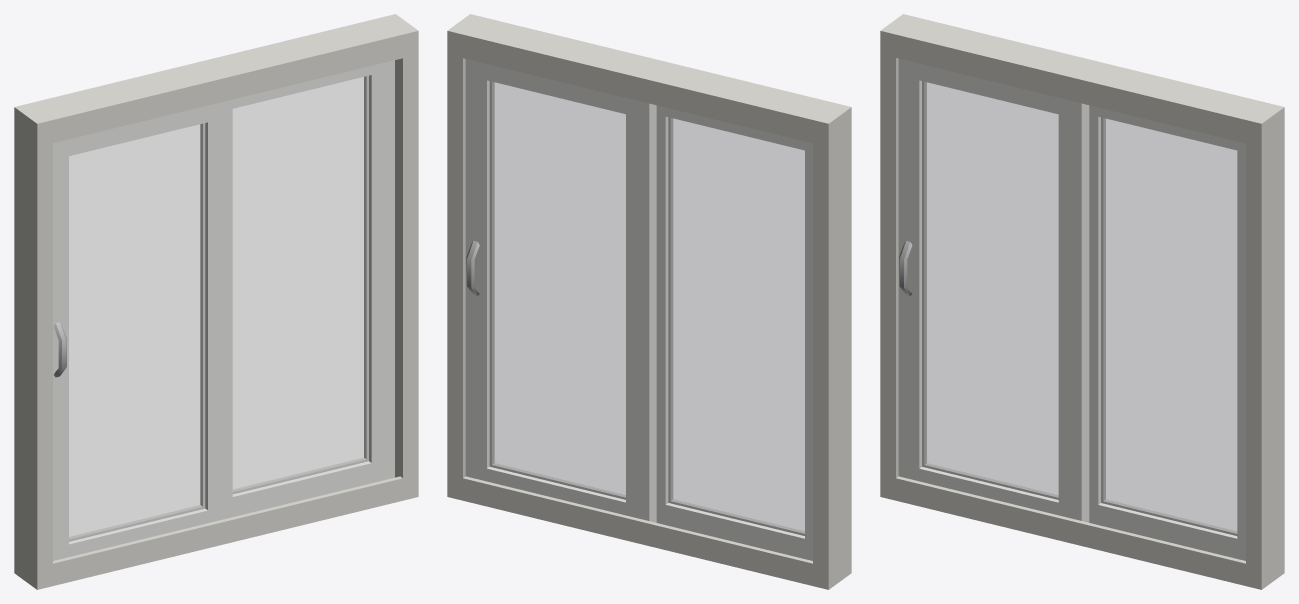
The model's file is SlidingDoors_Textured_v1.fbx.
3 renders of one model, left to right at view 1: azimuth 30°, elevation 25°; view 2: azimuth 150°, elevation 25°; view 3: azimuth 330°, elevation 25°, orthographic.
Visible parts, largest first — view 1: pCube4 (×2), DoorFrame; view 2: pCube4 (×2), DoorFrame; view 3: pCube4 (×2), DoorFrame.
Part boxes in pixels (left/top/right/bottom): pCube4 (×2): left=53, top=60, right=394, bottom=560; DoorFrame: left=14, top=14, right=418, bottom=589; pCube4 (×2): left=465, top=59, right=812, bottom=560; DoorFrame: left=447, top=14, right=851, bottom=589; pCube4 (×2): left=898, top=58, right=1245, bottom=560; DoorFrame: left=880, top=14, right=1284, bottom=589.
Bounding box in the file's own units: 7.2 × 8.4 × 0.9212.
